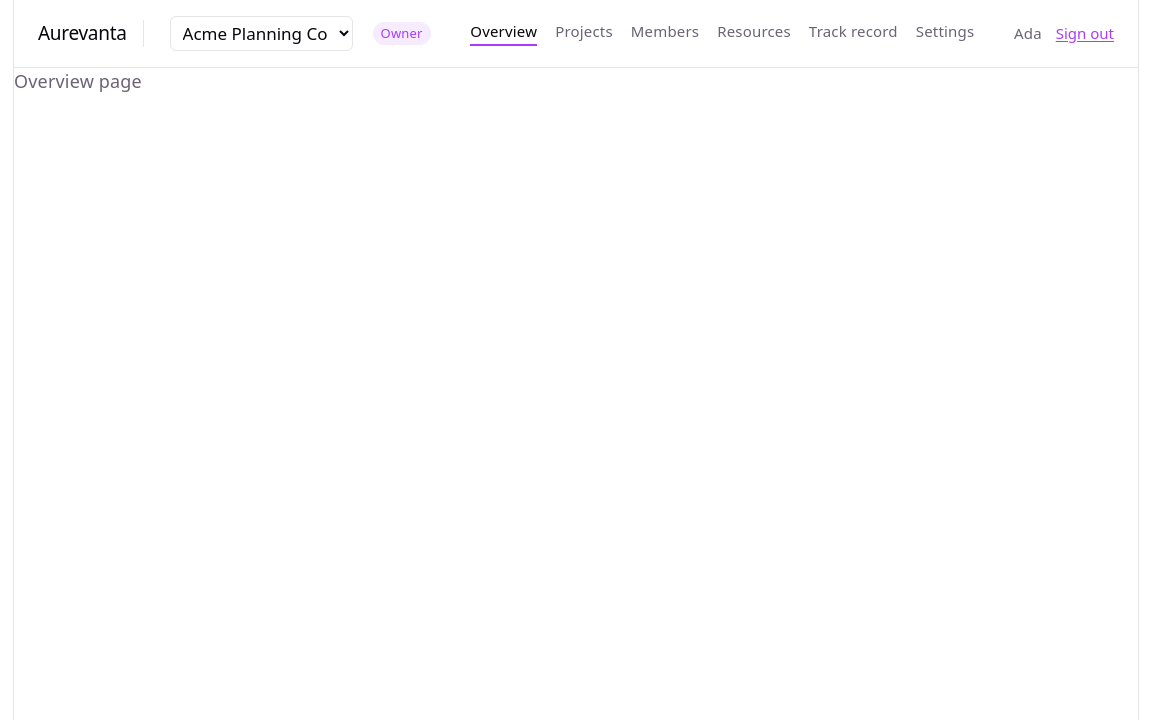
Test: AppLayout › says so when the exchange is refused
Expected: the text "Overview page" is shown, x1=14 y1=69 x2=142 y2=93
Select "Umbrella" in the dropdown named "Organisation" at (261,34), box x1=170 y1=16 x2=353 y2=51
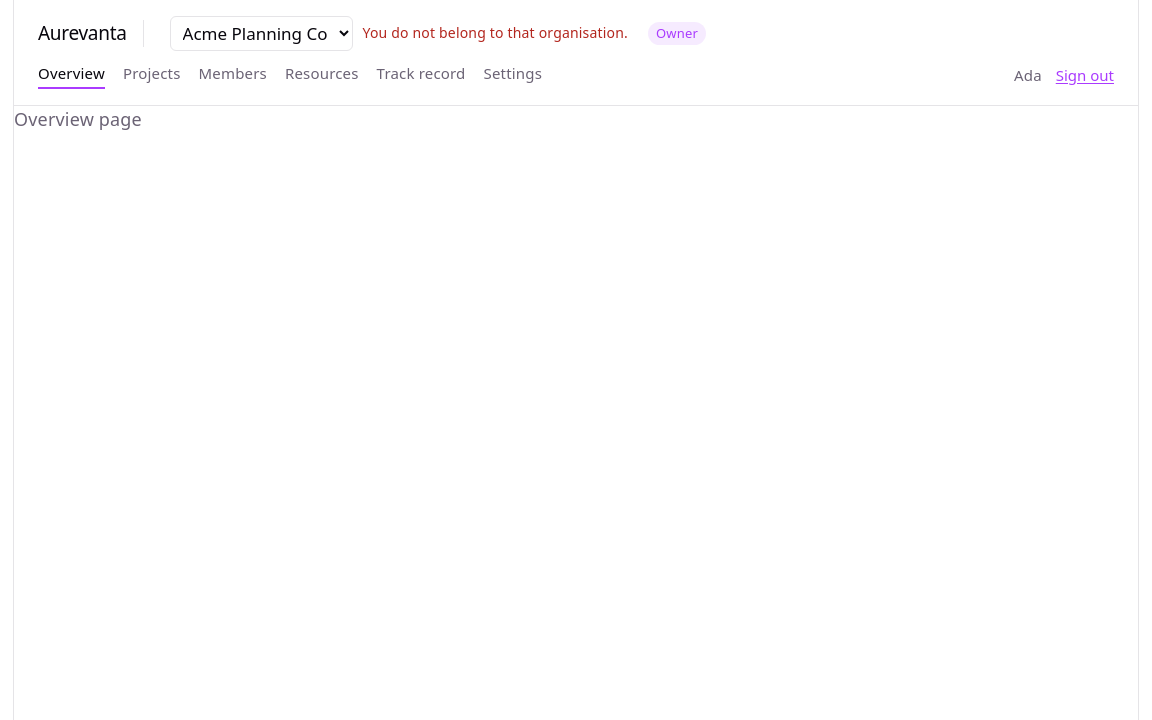
Expected: the message reads "You do not belong to that organisation.", x1=363 y1=23 x2=628 y2=42
